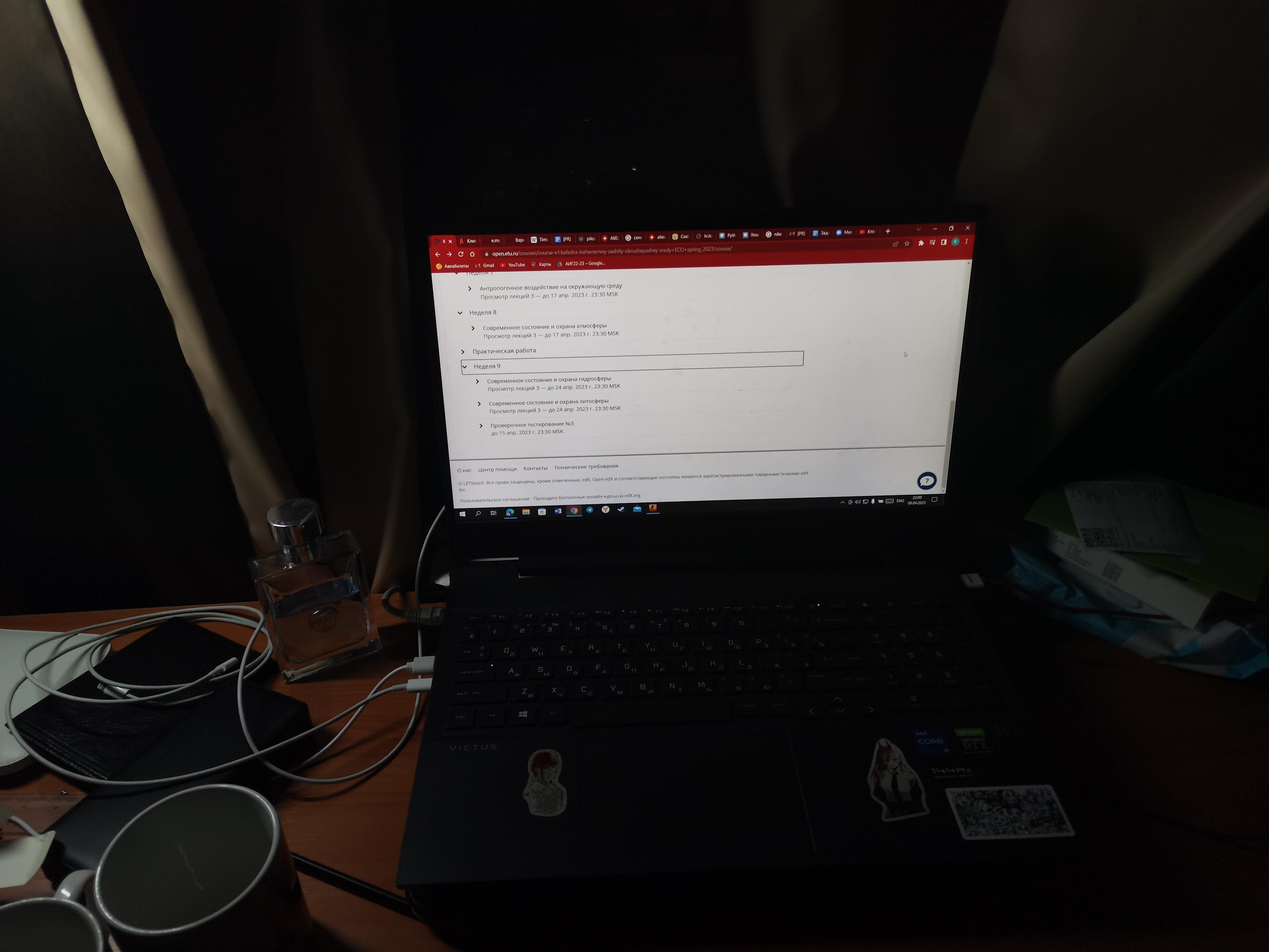monitor: (384, 194, 988, 592)
